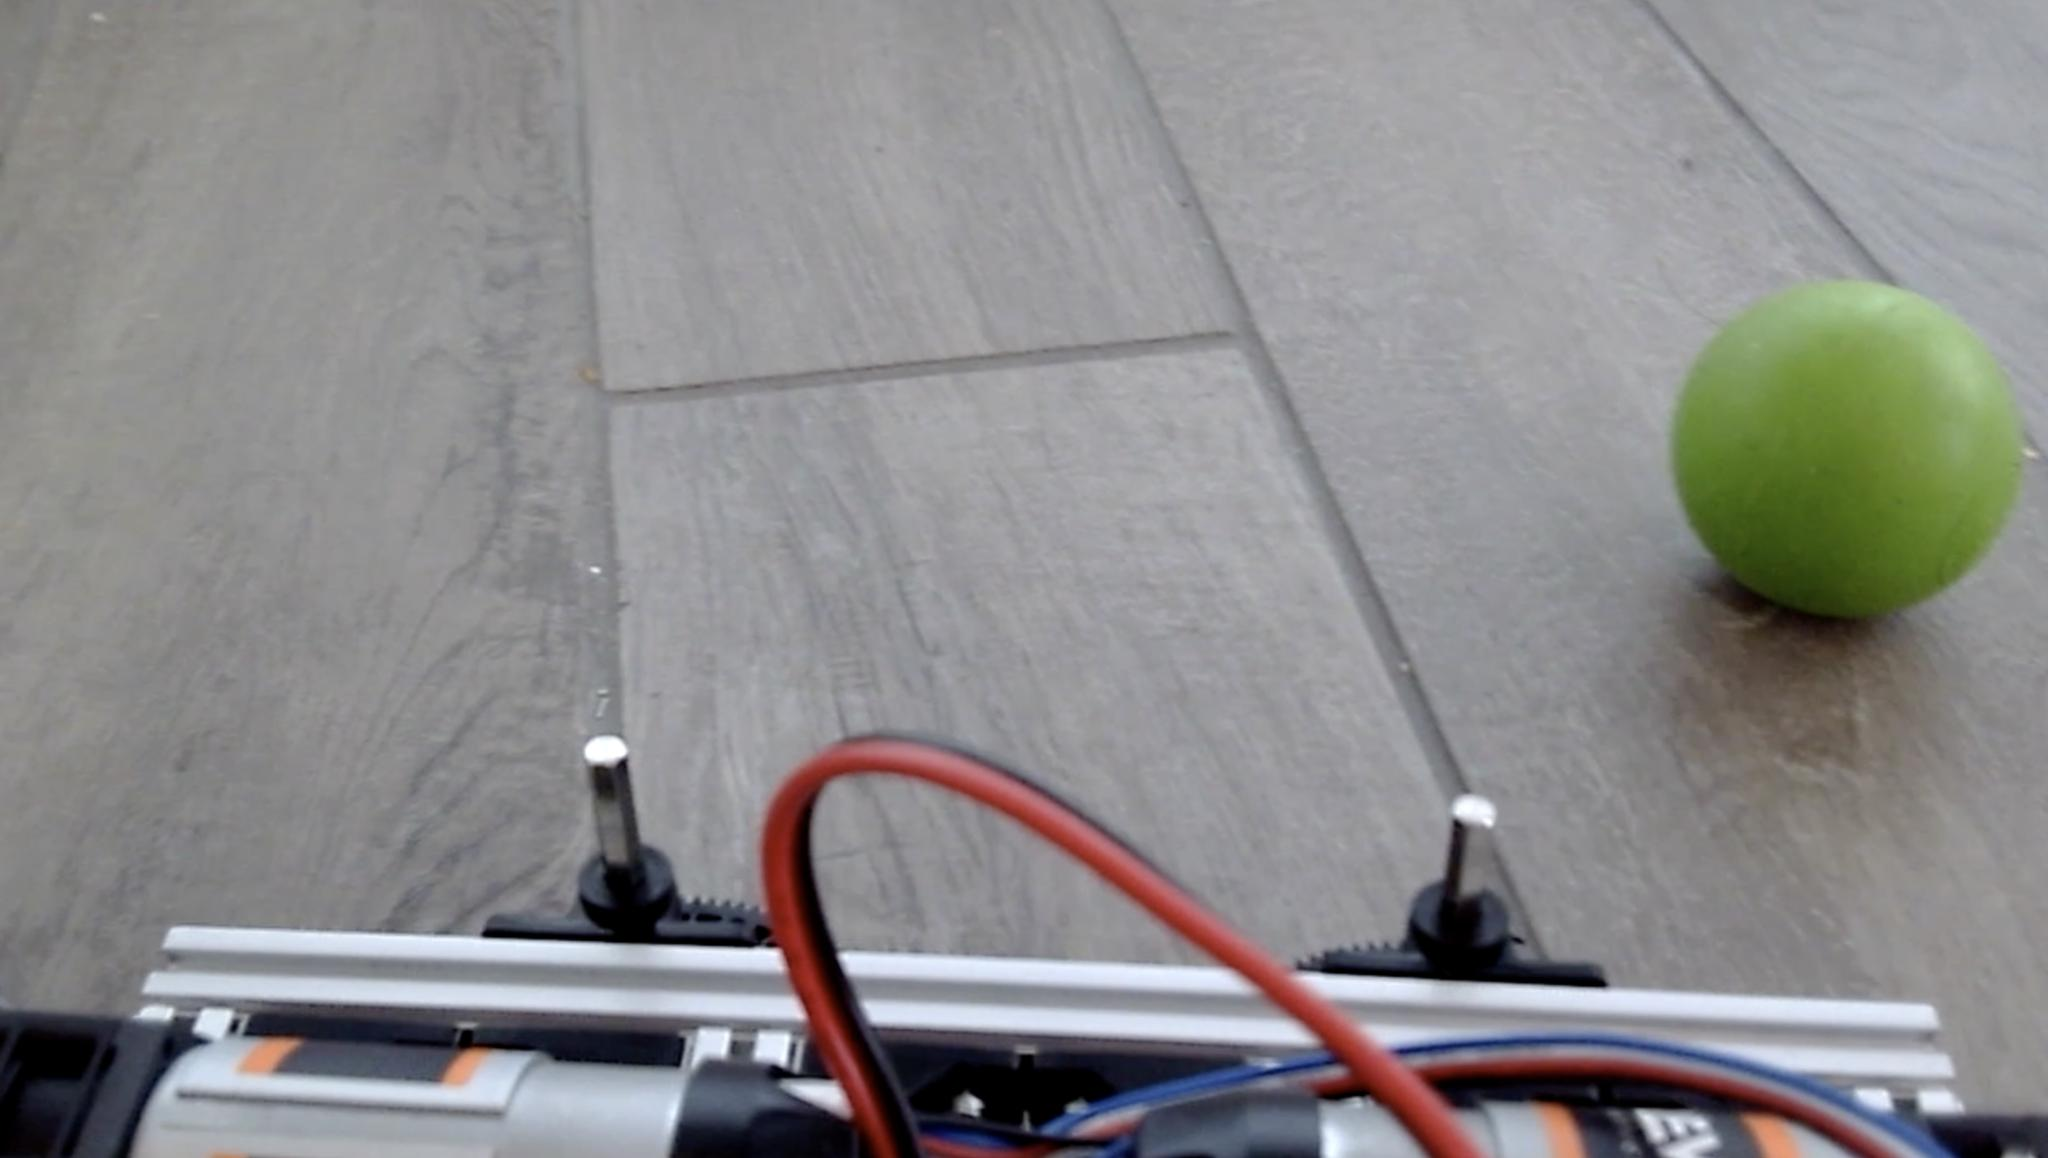greenball: (1667, 274, 2024, 622)
